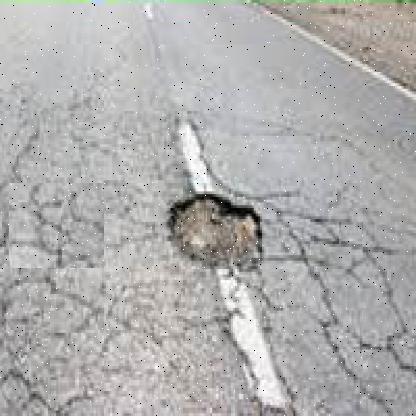crack: (291, 202, 393, 283), (8, 183, 104, 269)
pothole: (154, 181, 287, 278)
